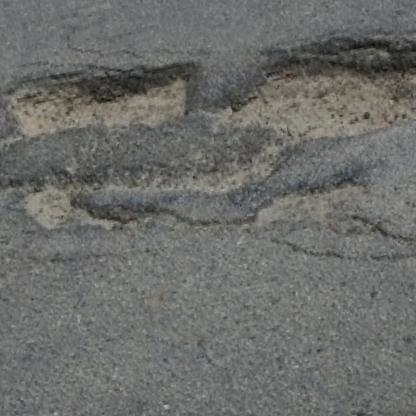pothole: (211, 19, 416, 165), (0, 45, 203, 160), (77, 130, 274, 224), (250, 173, 371, 229), (11, 166, 89, 239)
